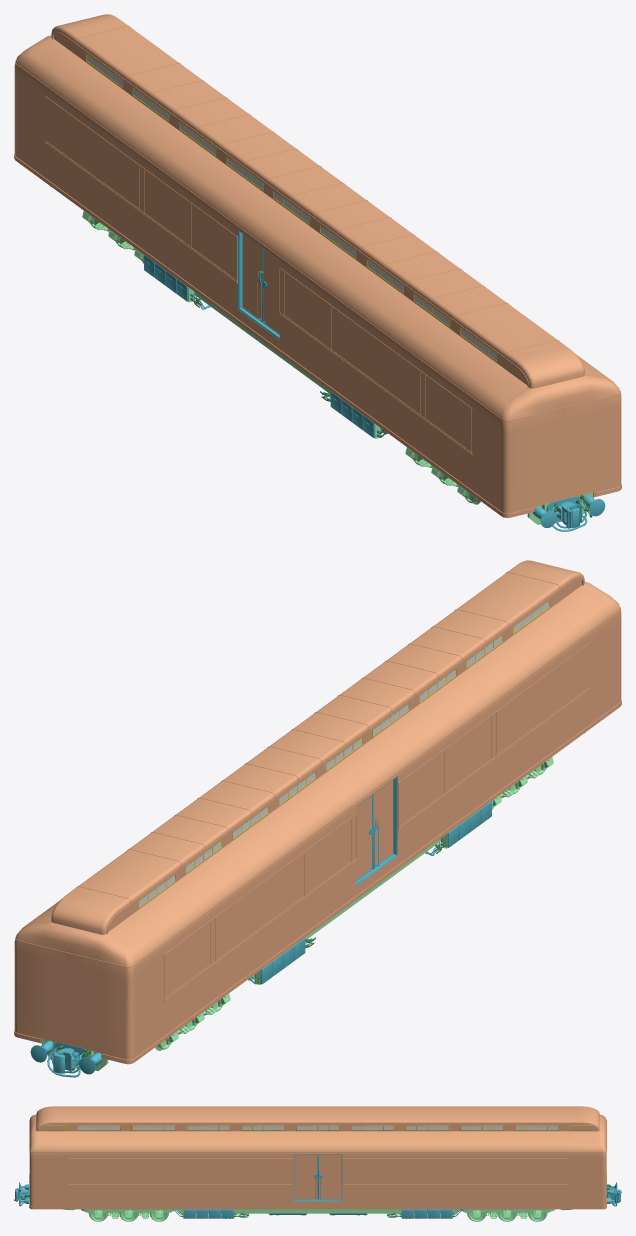
The model's file is Cargo_Car.fbx.
3 renders of one model, top to bottom at view 1: azimuth 30°, elevation 25°; view 2: azimuth 150°, elevation 25°; view 3: azimuth 270°, elevation 25°, orthographic. The views are drawn at different scales.
Parts seen in each view (by area): view 1: Cargo_Car; view 2: Cargo_Car; view 3: Cargo_Car, Passenger_Car_Carriage_2, Passenger_Car_Carriage_1.
Boxes of the visible parts, x1,y1,x2,y2 form: Cargo_Car: [14, 14, 621, 531]; Cargo_Car: [14, 560, 621, 1077]; Cargo_Car: [14, 1106, 621, 1218]; Passenger_Car_Carriage_2: [460, 1209, 554, 1219]; Passenger_Car_Carriage_1: [81, 1209, 175, 1219].
Bounding box in the file's own units: 270 × 361 × 2002.
